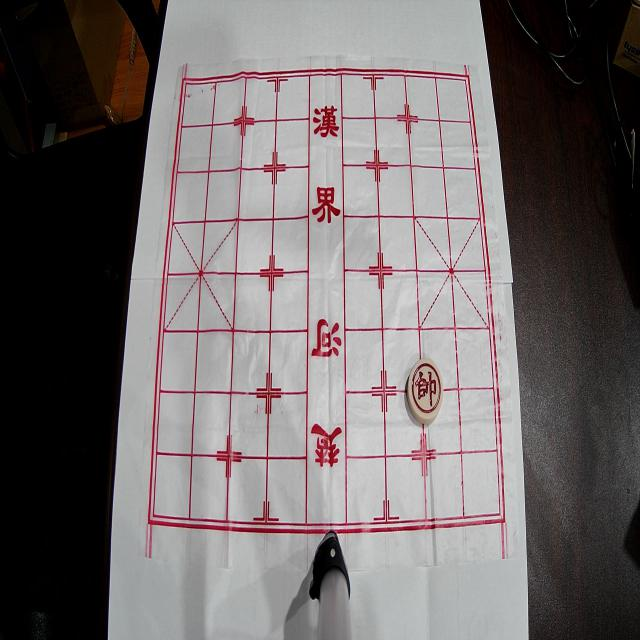red-general: (408, 358, 443, 424)
